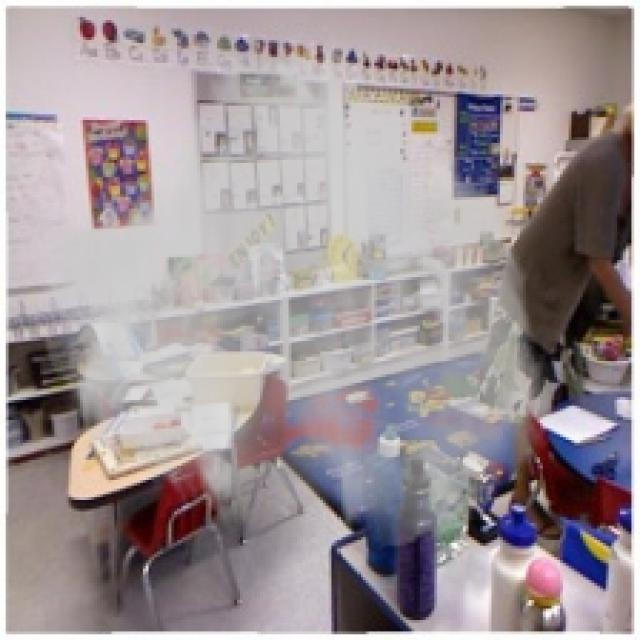smoke: (37, 23, 554, 551)
